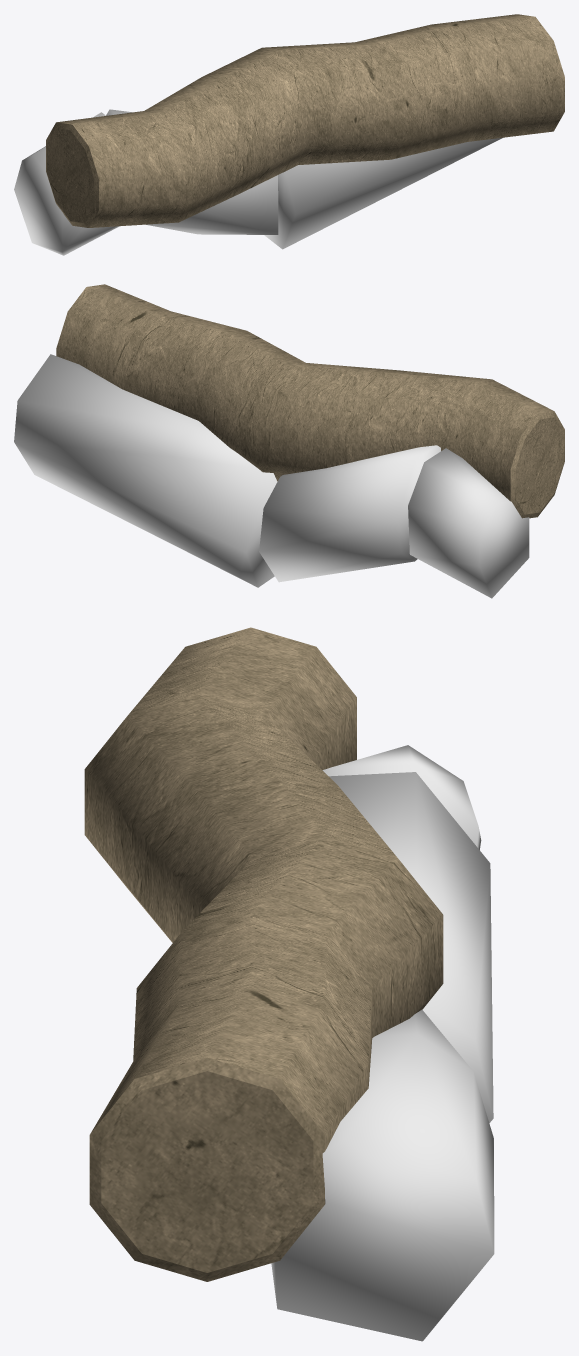
File: SM_Cigarette_02.fbx
3 views of the same model, one above another, from view 1: azimuth 30°, elevation 25°; view 2: azimuth 150°, elevation 25°; view 3: azimuth 270°, elevation 25° (orthographic). The views are drawn at different scales.
Visible parts, largest first — view 1: SM_Cigarette_02, SM_Cigarette_02_ConvexHulls; view 2: SM_Cigarette_02_ConvexHulls, SM_Cigarette_02; view 3: SM_Cigarette_02, SM_Cigarette_02_ConvexHulls.
Part boxes in pixels (bbox=[...]): SM_Cigarette_02: bbox=[46, 14, 564, 227]; SM_Cigarette_02_ConvexHulls: bbox=[14, 109, 502, 255]; SM_Cigarette_02_ConvexHulls: bbox=[14, 354, 529, 598]; SM_Cigarette_02: bbox=[56, 284, 564, 518]; SM_Cigarette_02: bbox=[84, 627, 443, 1281]; SM_Cigarette_02_ConvexHulls: bbox=[271, 745, 494, 1341].
Bounding box in the file's own units: 0.0426 × 0.018 × 0.0165.
